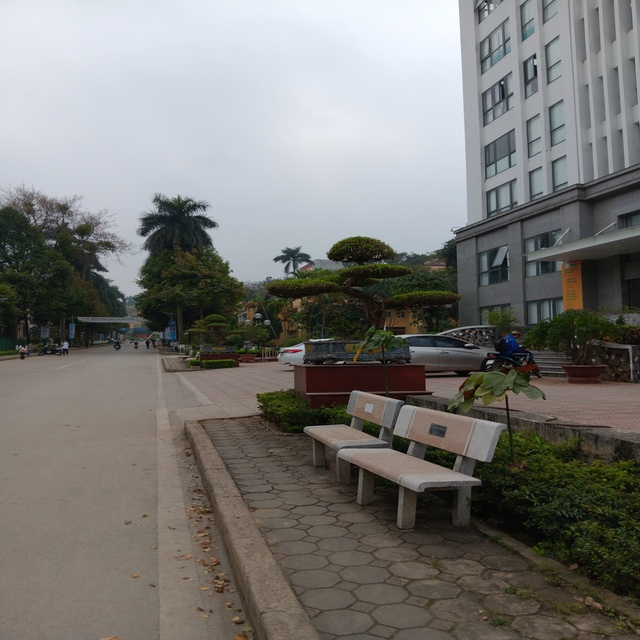gheda: (349, 406, 507, 532), (305, 390, 402, 494), (187, 348, 201, 366)
